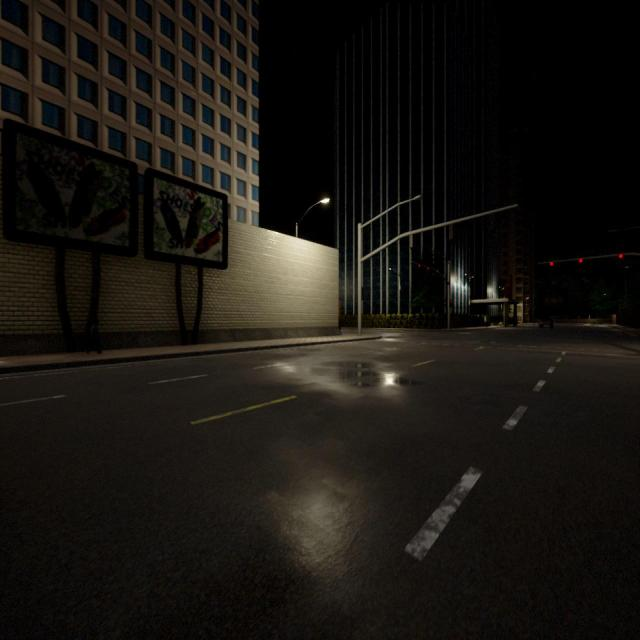Pedestrian: (84, 297, 104, 357)
Vehicle: (538, 310, 554, 329)
traffic_light: (449, 299, 452, 308), (579, 258, 583, 264), (619, 253, 623, 259), (549, 262, 554, 266), (418, 264, 421, 268), (427, 267, 429, 270), (436, 270, 438, 273)
